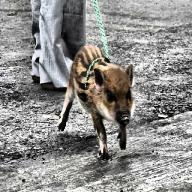boar: (57, 44, 134, 160)
